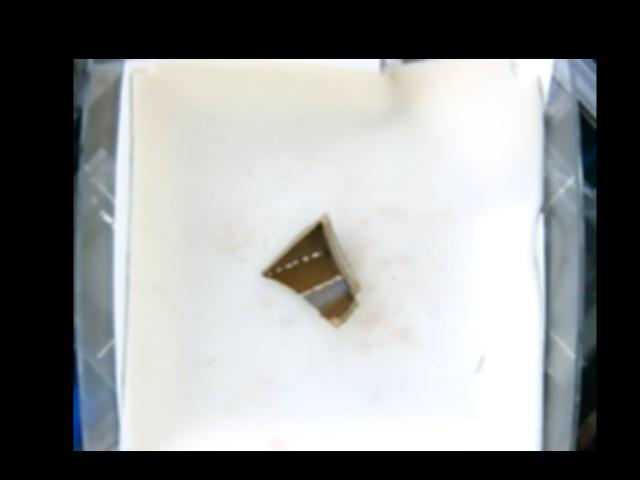China: (263, 215, 360, 327)
